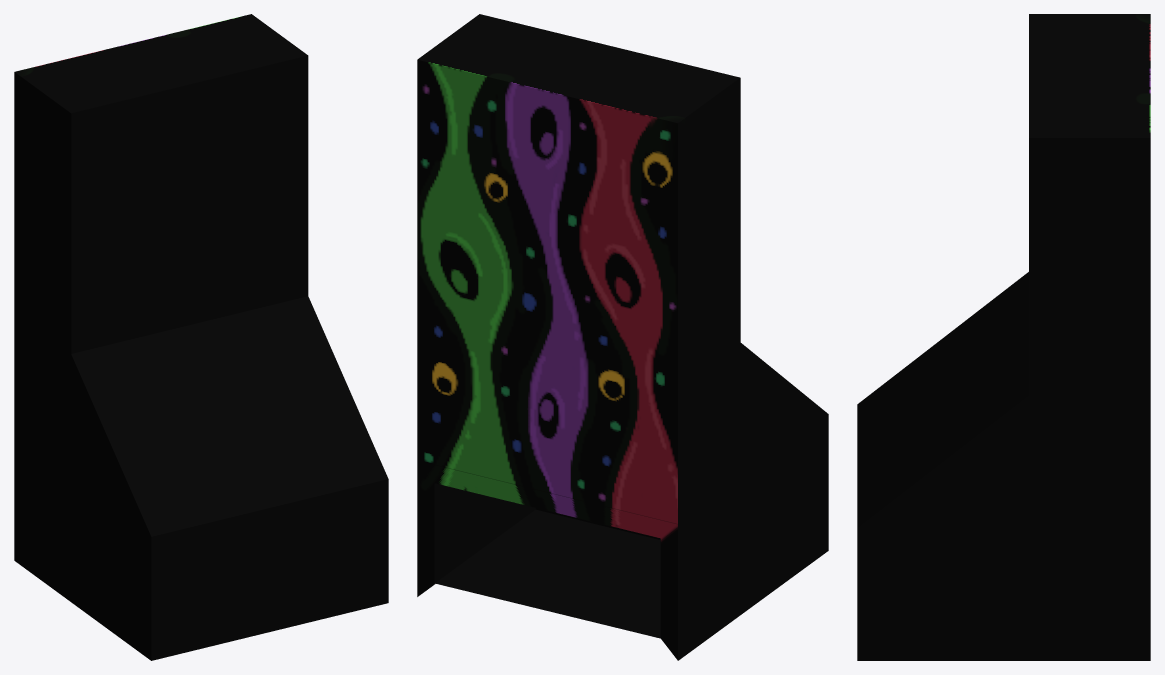
Rendered from Front_machine.fbx.
3 views of the same model, side by side, from view 1: azimuth 30°, elevation 25°; view 2: azimuth 150°, elevation 25°; view 3: azimuth 270°, elevation 25° (orthographic). The views are drawn at different scales.
Parts seen in each view (by area): view 1: Cube.004; view 2: Cube.004; view 3: Cube.004.
Part boxes in pixels (x1=…): Cube.004: x1=14, y1=14, x2=388, y2=660; Cube.004: x1=417, y1=14, x2=828, y2=660; Cube.004: x1=857, y1=14, x2=1150, y2=660.
Size of the model in its own units: 2270 by 4471 by 2270.
